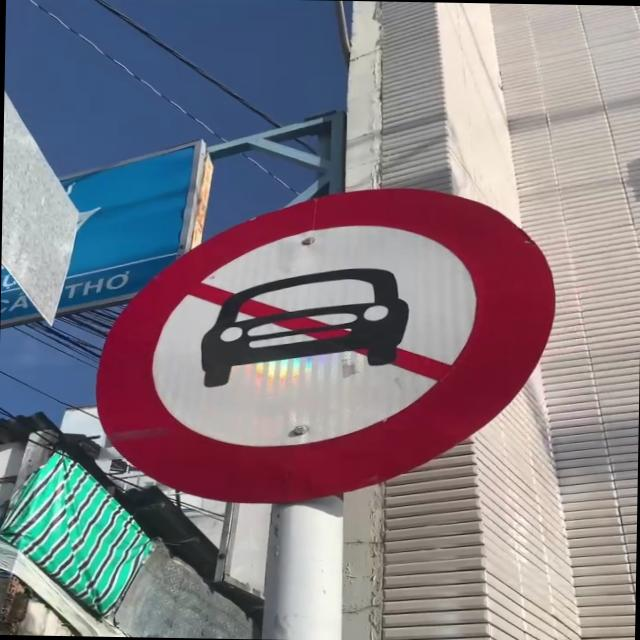Cam_O_To: (88, 178, 570, 512)
